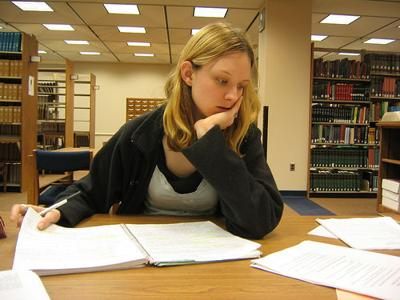person: (10, 22, 286, 244)
